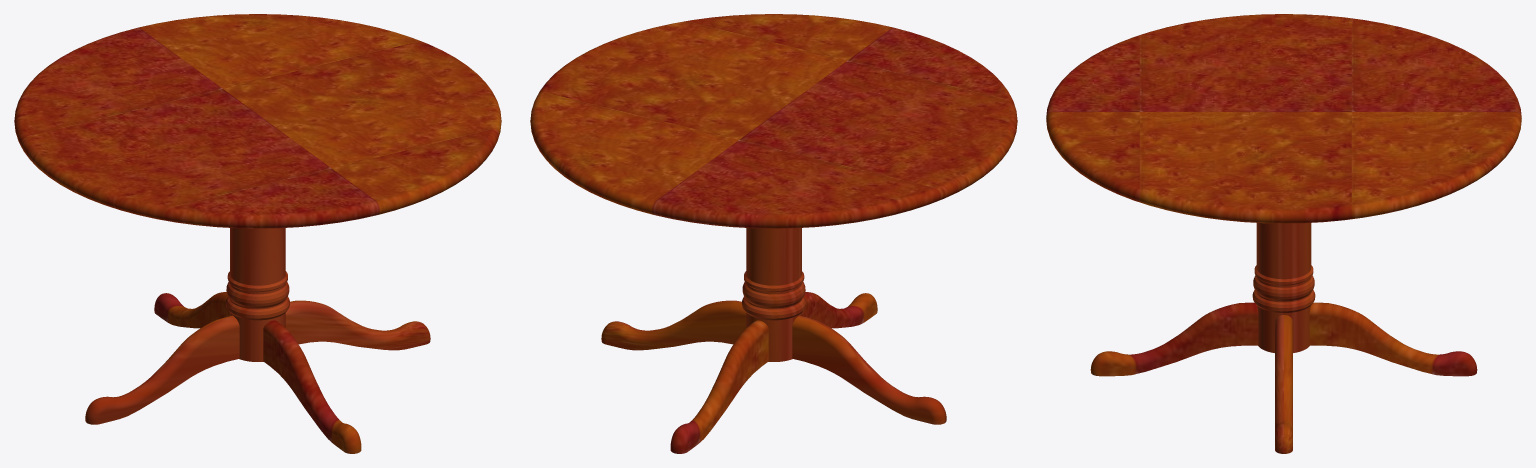
Rendered from Table 3.fbx.
3 renders of one model, left to right at view 1: azimuth 30°, elevation 25°; view 2: azimuth 150°, elevation 25°; view 3: azimuth 270°, elevation 25°, orthographic. The views are drawn at different scales.
Visible parts, largest first — view 1: Generic_Solid_3, Generic_Solid_2, Generic_Solid; view 2: Generic_Solid_3, Generic_Solid_2, Generic_Solid; view 3: Generic_Solid_3, Generic_Solid_2, Generic_Solid.
Boxes of the visible parts, x1,y1,x2,y2 form: Generic_Solid_3: (14, 14, 501, 228); Generic_Solid_2: (85, 292, 430, 453); Generic_Solid: (226, 228, 289, 361); Generic_Solid_3: (530, 14, 1017, 228); Generic_Solid_2: (601, 292, 946, 453); Generic_Solid: (742, 228, 805, 361); Generic_Solid_3: (1046, 14, 1521, 223); Generic_Solid_2: (1090, 302, 1477, 453); Generic_Solid: (1252, 223, 1315, 352).
Bounding box in the file's own units: 1219 × 736 × 1219.
Materials: 1 (1 with a texture image).
